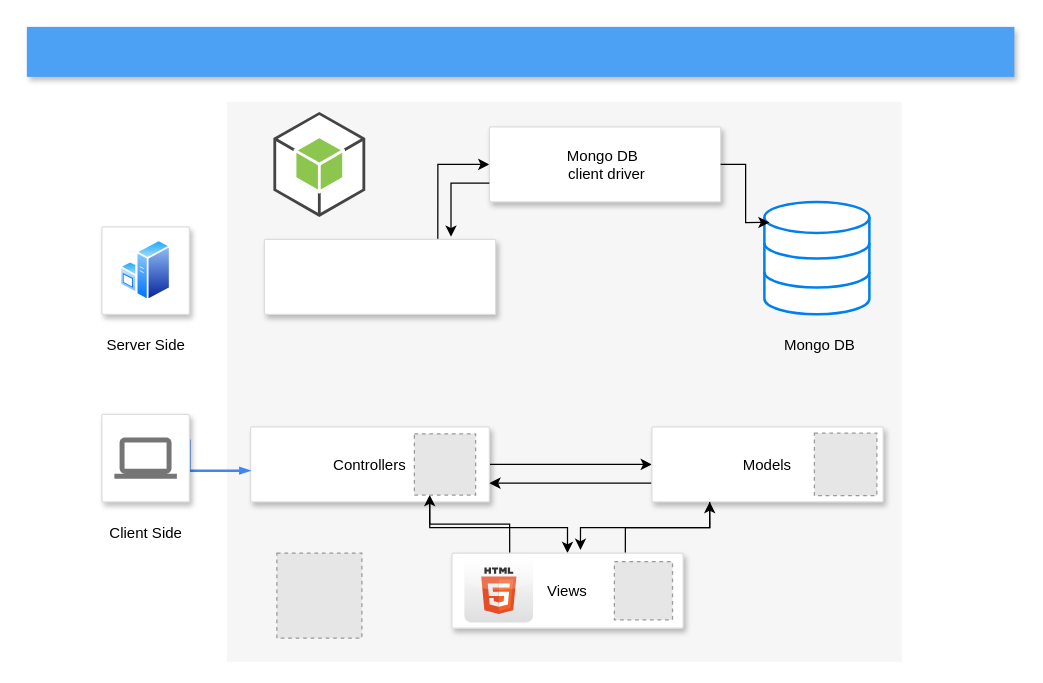
The diagram is 1043 pixels wide and 683 high, and some of its shapes have lost their labels. Grey dashed boxes stand in for pictures. The centre of each missing label's shape, as x and y in pixels:
"Express.js (Rest API)" goes at [380,278].
"WebAplication" goes at [521,53].
